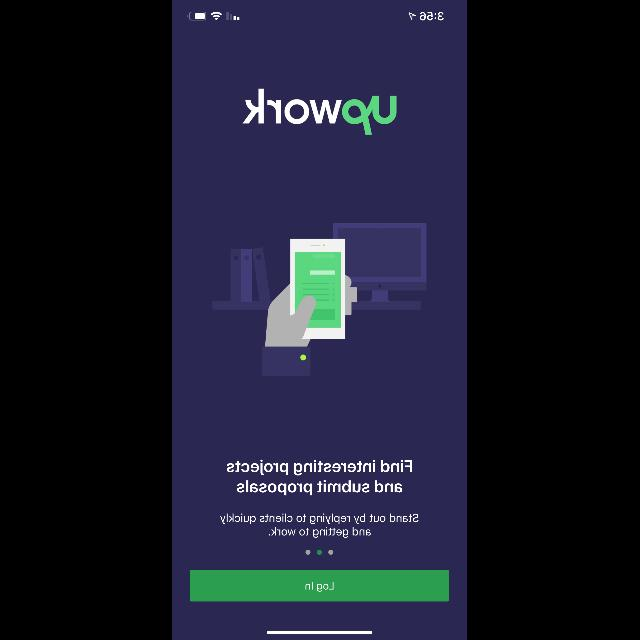image: (212, 224, 428, 376), (243, 89, 397, 135)
pageindicator: (306, 550, 334, 554)
text: (227, 459, 413, 495), (220, 513, 420, 537)
textbutton: (190, 570, 450, 602)
uppertaskbar: (188, 12, 444, 21)
